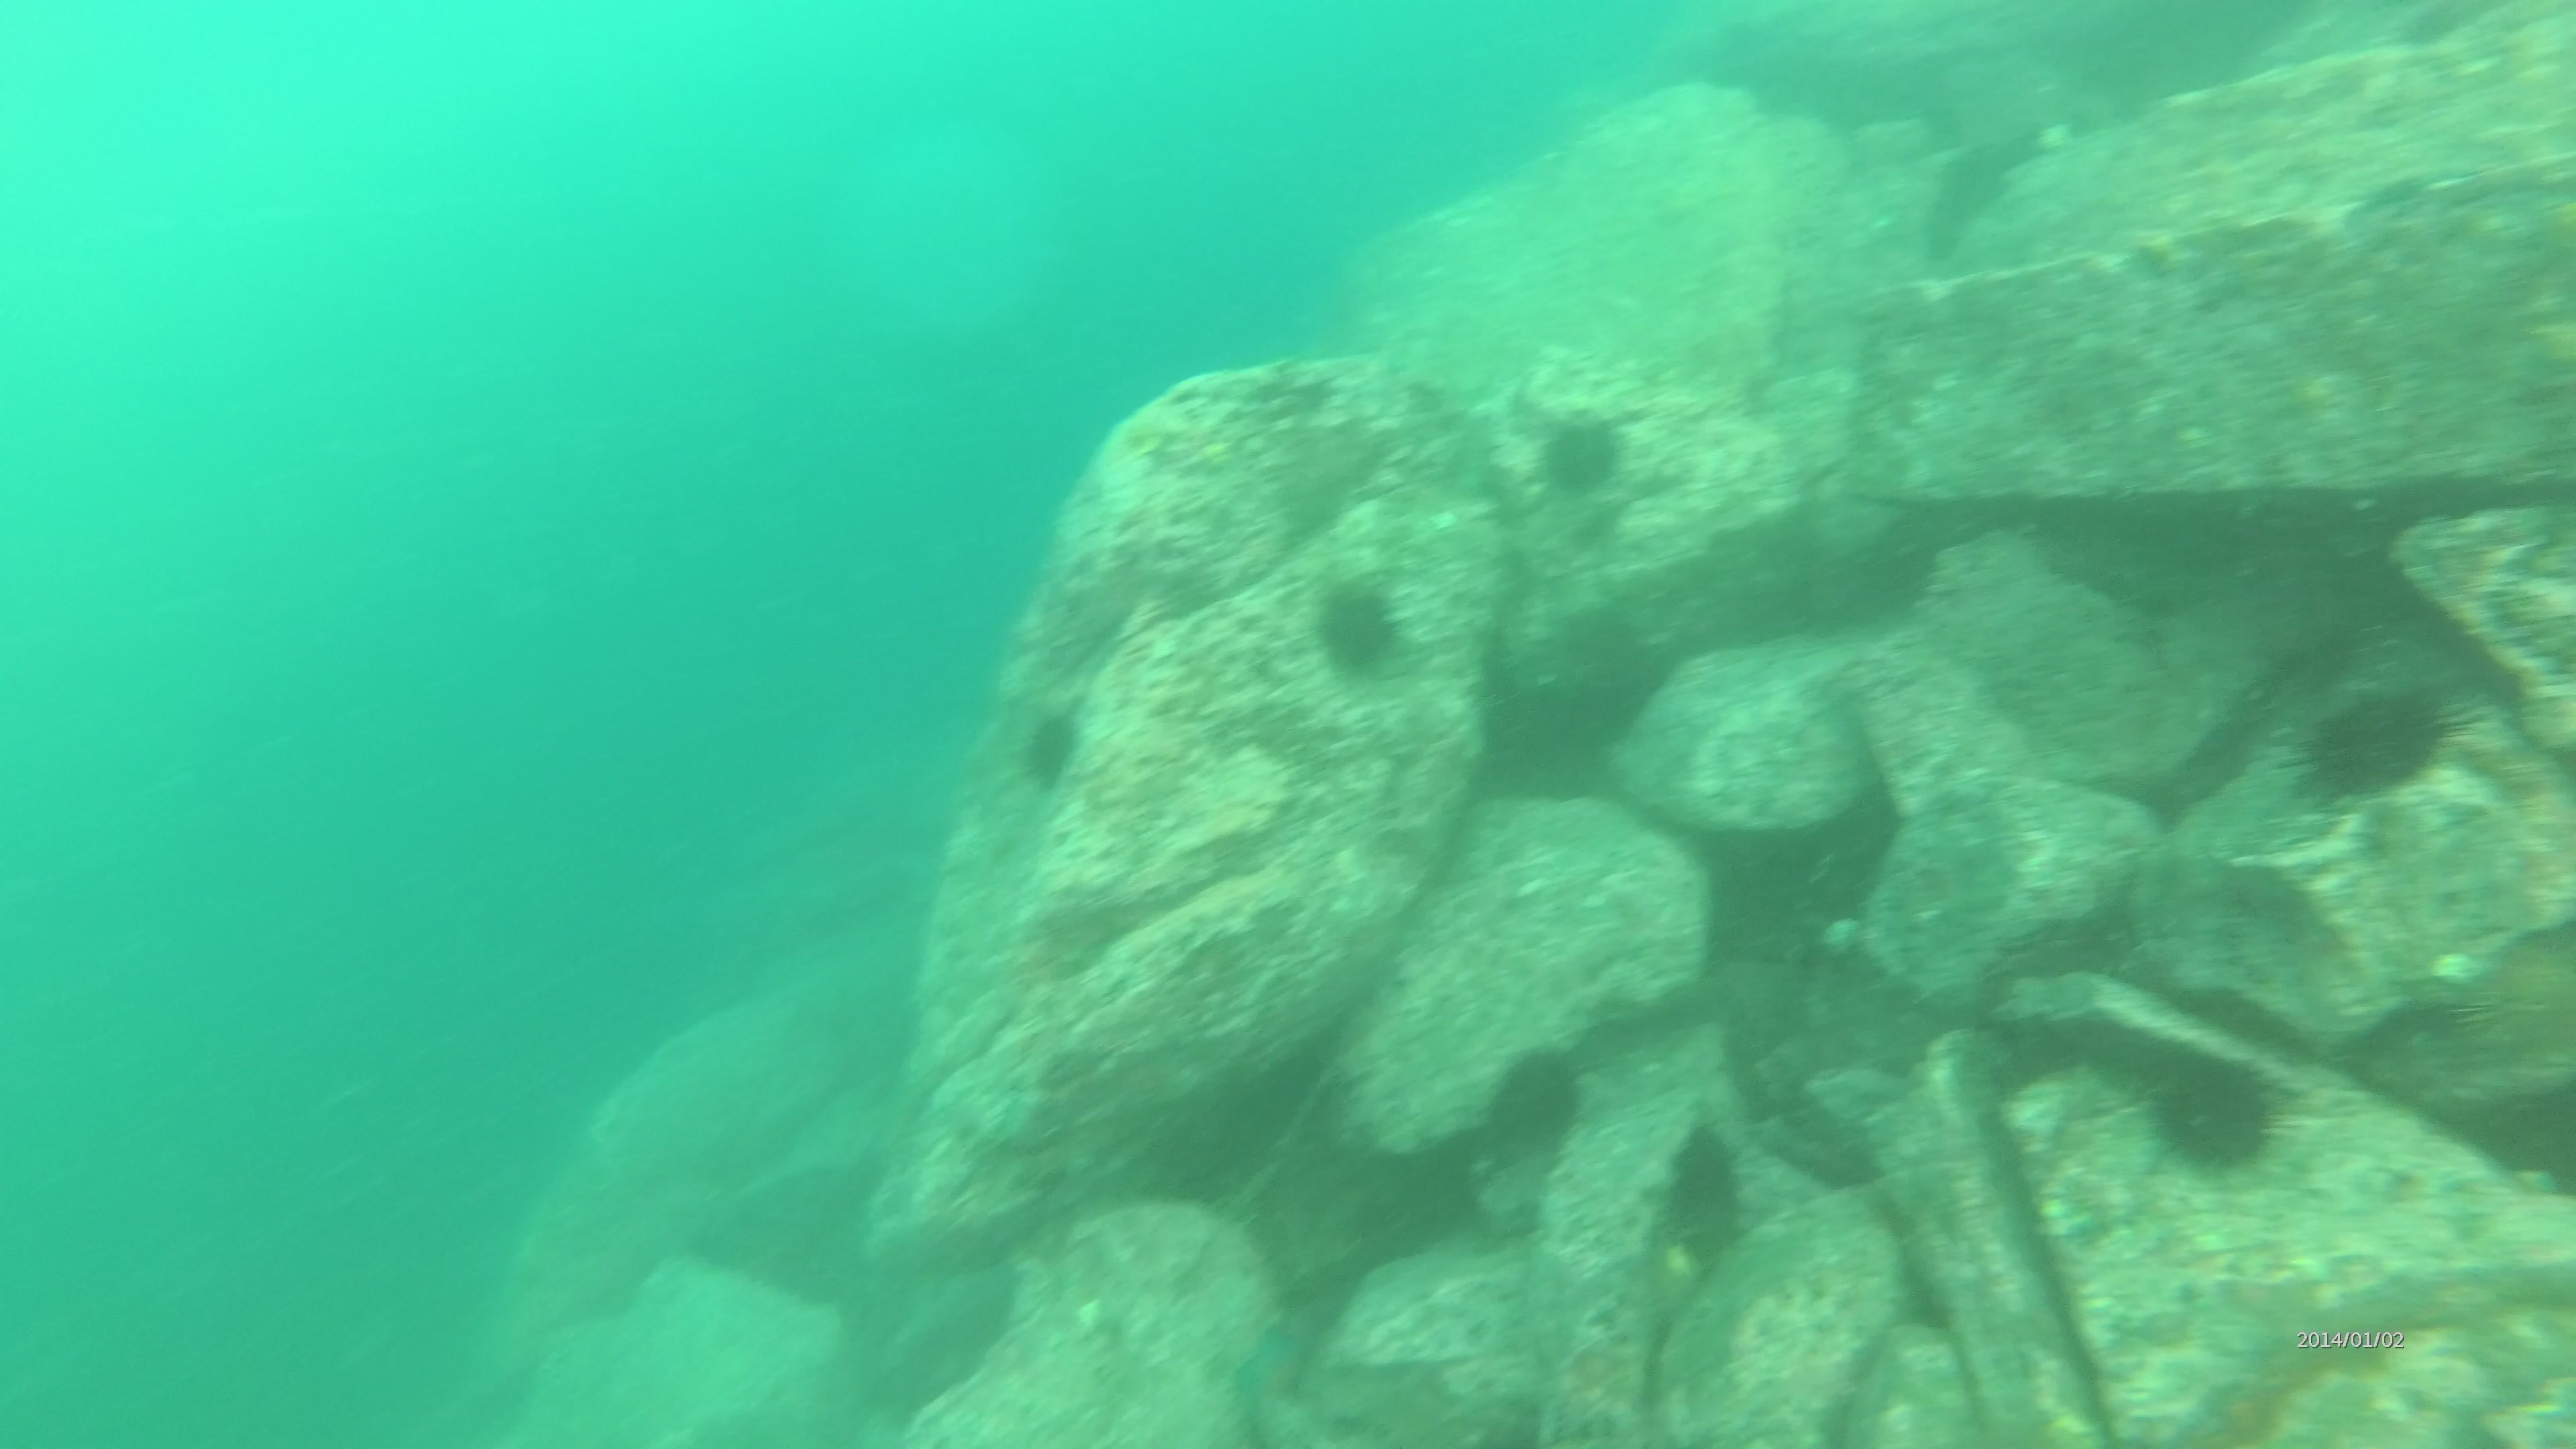echinus: (2288, 676, 2465, 805), (2445, 916, 2576, 1079), (2141, 1047, 2289, 1180), (1481, 1042, 1594, 1159), (1304, 571, 1414, 686), (1530, 407, 1631, 504), (1012, 702, 1088, 794)
